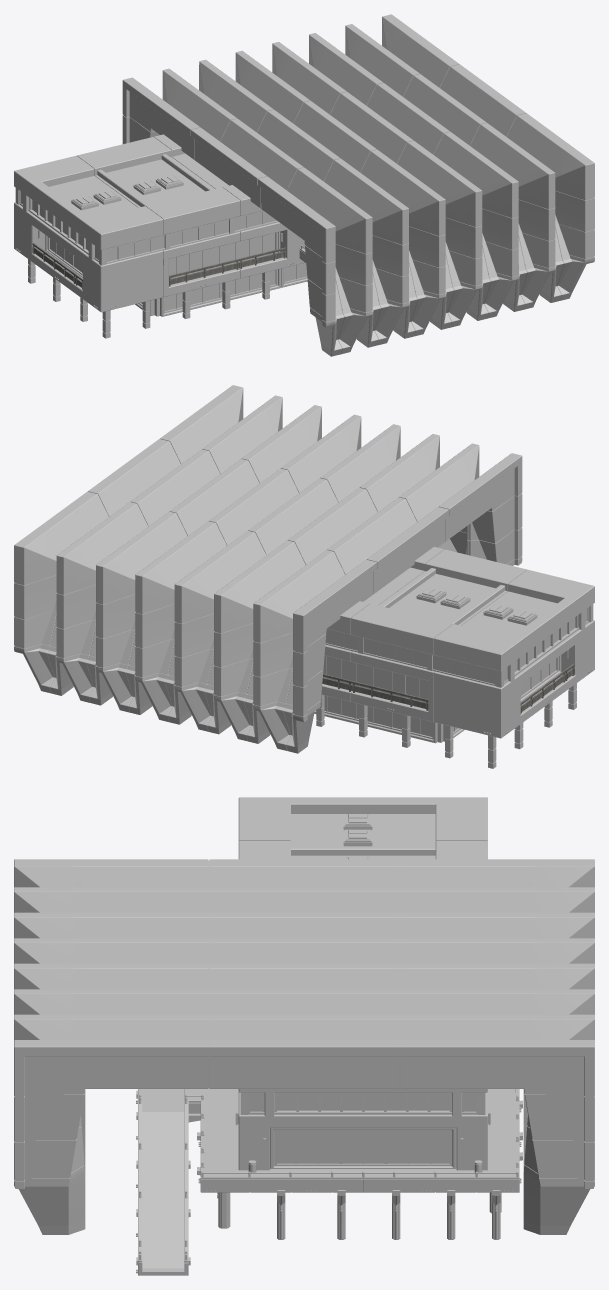
The model's file is Kitbash3D_Brutalist_Structure10.fbx.
The picture shows the model from 3 angles, top to bottom: view 1: azimuth 30°, elevation 25°; view 2: azimuth 150°, elevation 25°; view 3: azimuth 270°, elevation 25°; orthographic projection. The views are drawn at different scales.
Visible parts, largest first — view 1: M_Sm_Bldg_D_LG_Support_Ribs, M_Sm_Bldg_D_Bldg_Main, M_Sm_Bldg_D_WindowsGlass, M_Sm_Bldg_D_Columns_ConcMull, M_Sm_Bldg_D_Mull_WinFrames, M_Sm_Bldg_D_Conc_Rails, M_Sm_Bldg_D_Details_Props; view 2: M_Sm_Bldg_D_LG_Support_Ribs, M_Sm_Bldg_D_Bldg_Main, M_Sm_Bldg_D_WindowsGlass, M_Sm_Bldg_D_Columns_ConcMull, M_Sm_Bldg_D_Mull_WinFrames, M_Sm_Bldg_D_Conc_Rails, M_Sm_Bldg_D_Details_Props; view 3: M_Sm_Bldg_D_LG_Support_Ribs, M_Sm_Bldg_D_Bldg_Main, M_Sm_Bldg_D_StoneFloor, M_Sm_Bldg_D_WindowsGlass, M_Sm_Bldg_D_Ramp_Walls, M_Sm_Bldg_D_Columns_ConcMull, M_Sm_Bldg_D_Ramp_Suppports, M_Sm_Bldg_D_Mull_WinFrames, M_Sm_Bldg_D_Rails_All, M_Sm_Bldg_D_Details_Props, M_Sm_Bldg_D_ConcFormHoles.
Boxes of the visible parts, x1,y1,x2,y2 form: M_Sm_Bldg_D_LG_Support_Ribs: (122,14,594,356); M_Sm_Bldg_D_Bldg_Main: (14,134,305,316); M_Sm_Bldg_D_WindowsGlass: (21,191,307,310); M_Sm_Bldg_D_Columns_ConcMull: (15,154,278,338); M_Sm_Bldg_D_Mull_WinFrames: (45,231,307,316); M_Sm_Bldg_D_Conc_Rails: (32,243,286,289); M_Sm_Bldg_D_Details_Props: (16,175,293,308); M_Sm_Bldg_D_LG_Support_Ribs: (14,385,522,753); M_Sm_Bldg_D_Bldg_Main: (321,547,594,742); M_Sm_Bldg_D_WindowsGlass: (323,608,587,736); M_Sm_Bldg_D_Columns_ConcMull: (316,568,593,768); M_Sm_Bldg_D_Mull_WinFrames: (314,655,561,743); M_Sm_Bldg_D_Conc_Rails: (322,663,574,714); M_Sm_Bldg_D_Details_Props: (387,587,592,734); M_Sm_Bldg_D_LG_Support_Ribs: (14,859,594,1234); M_Sm_Bldg_D_Bldg_Main: (238,797,487,1170); M_Sm_Bldg_D_StoneFloor: (142,1088,515,1268); M_Sm_Bldg_D_WindowsGlass: (250,1094,476,1163); M_Sm_Bldg_D_Ramp_Walls: (138,1089,519,1275); M_Sm_Bldg_D_Columns_ConcMull: (240,846,485,1114); M_Sm_Bldg_D_Ramp_Suppports: (136,1090,522,1265); M_Sm_Bldg_D_Mull_WinFrames: (270,1128,456,1168); M_Sm_Bldg_D_Rails_All: (139,1089,518,1260); M_Sm_Bldg_D_Details_Props: (136,814,521,1273); M_Sm_Bldg_D_ConcFormHoles: (142,1088,515,1271).
Size of the model in its own units: 29.92 by 8.92 by 22.97.
